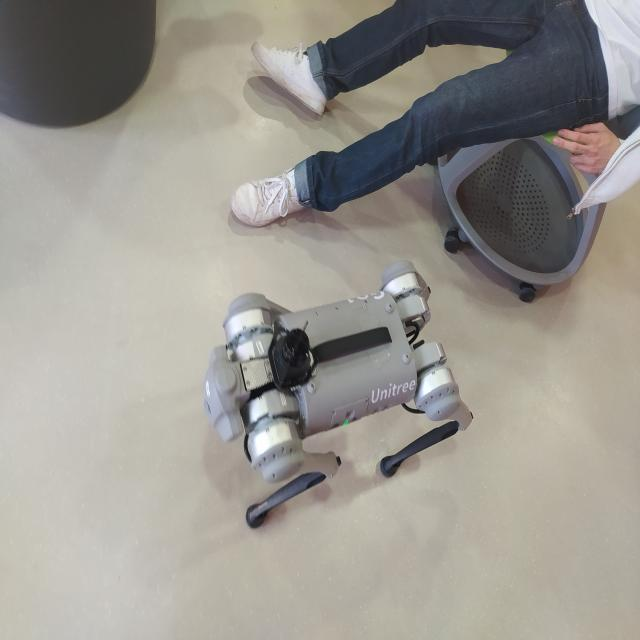unitree-go1-robot: (192, 253, 484, 544)
